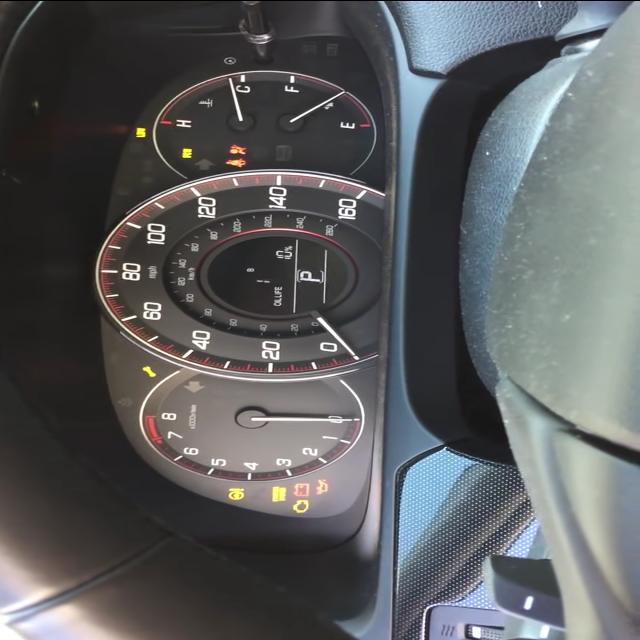Charging System Issue: (293, 482, 310, 496)
Check Engine: (292, 498, 310, 512)
Low Engine Oil Warning Light: (314, 478, 328, 494)
SRS-Airbag: (228, 144, 248, 154)
